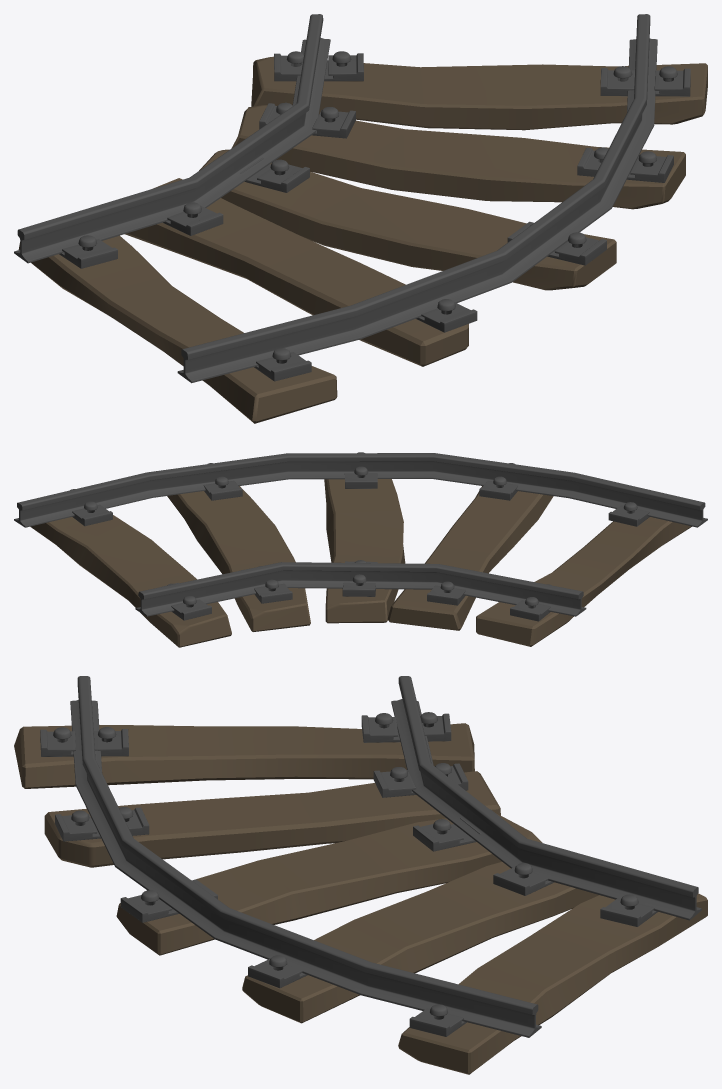
File: SM_railB_v1.fbx
3 renders of one model, top to bottom at view 1: azimuth 30°, elevation 25°; view 2: azimuth 150°, elevation 25°; view 3: azimuth 270°, elevation 25°, orthographic. The views are drawn at different scales.
Parts seen in each view (by area): view 1: SM_railB; view 2: SM_railB; view 3: SM_railB.
Boxes of the visible parts, x1=… form: SM_railB: x1=14, y1=14, x2=707, y2=423; SM_railB: x1=14, y1=452, x2=707, y2=647; SM_railB: x1=14, y1=676, x2=707, y2=1074.
Size of the model in its own units: 8.2 by 0.6459 by 6.99.
